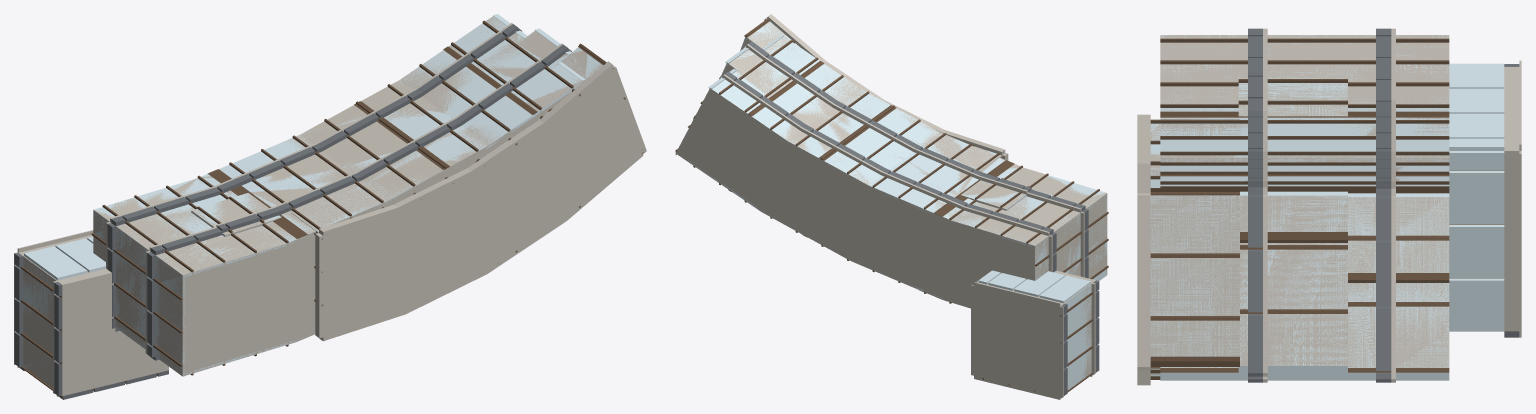
File: selected.glb
3 renders of one model, left to right at view 1: azimuth 30°, elevation 25°; view 2: azimuth 150°, elevation 25°; view 3: azimuth 270°, elevation 25°, orthographic. The views are drawn at different scales.
Visible parts, largest first — view 1: exact-mass, facade-details; view 2: exact-mass, facade-details; view 3: facade-details, exact-mass.
Part boxes in pixels (x1=…): exact-mass: x1=19, y1=16, x2=642, y2=396; facade-details: x1=14, y1=14, x2=646, y2=399; exact-mass: x1=675, y1=21, x2=1107, y2=396; facade-details: x1=675, y1=14, x2=1108, y2=399; facade-details: x1=1137, y1=28, x2=1521, y2=385; exact-mass: x1=1150, y1=35, x2=1519, y2=374.
Size of the model in its own units: 24.72 by 12.59 by 9.9.
